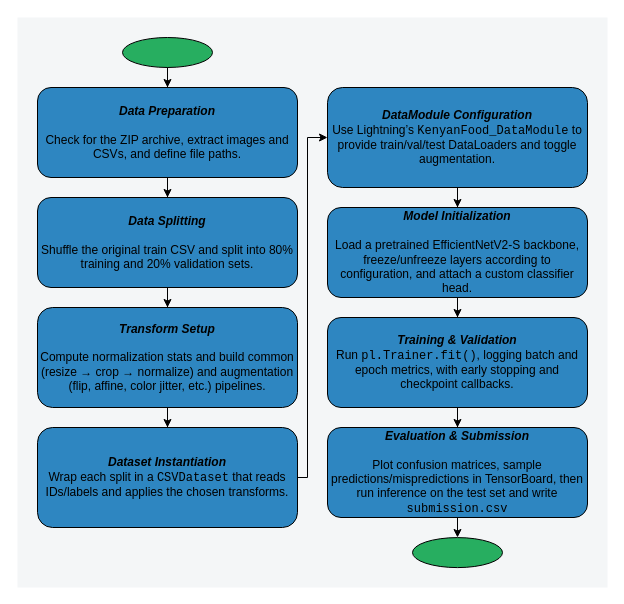
This 624x604 diagram has some shape labels left out. The shapes that lost their labels are listed below. From the top down, each one's box as (x1, y1, x2, y2) in pixels, then its label:
(122, 36, 212, 68): Start
(412, 537, 502, 568): Finish
